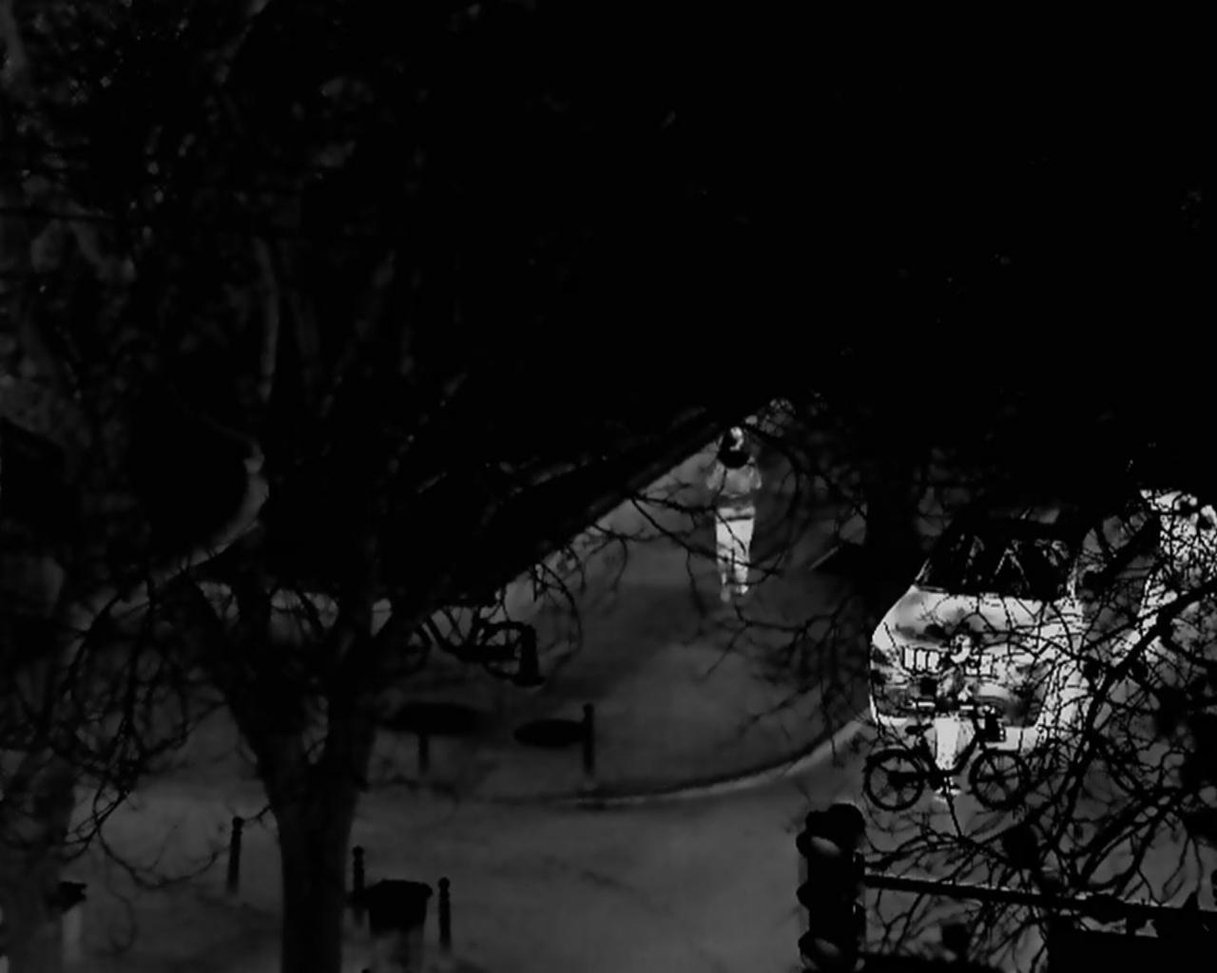person: (705, 427, 761, 602), (935, 633, 982, 799)
